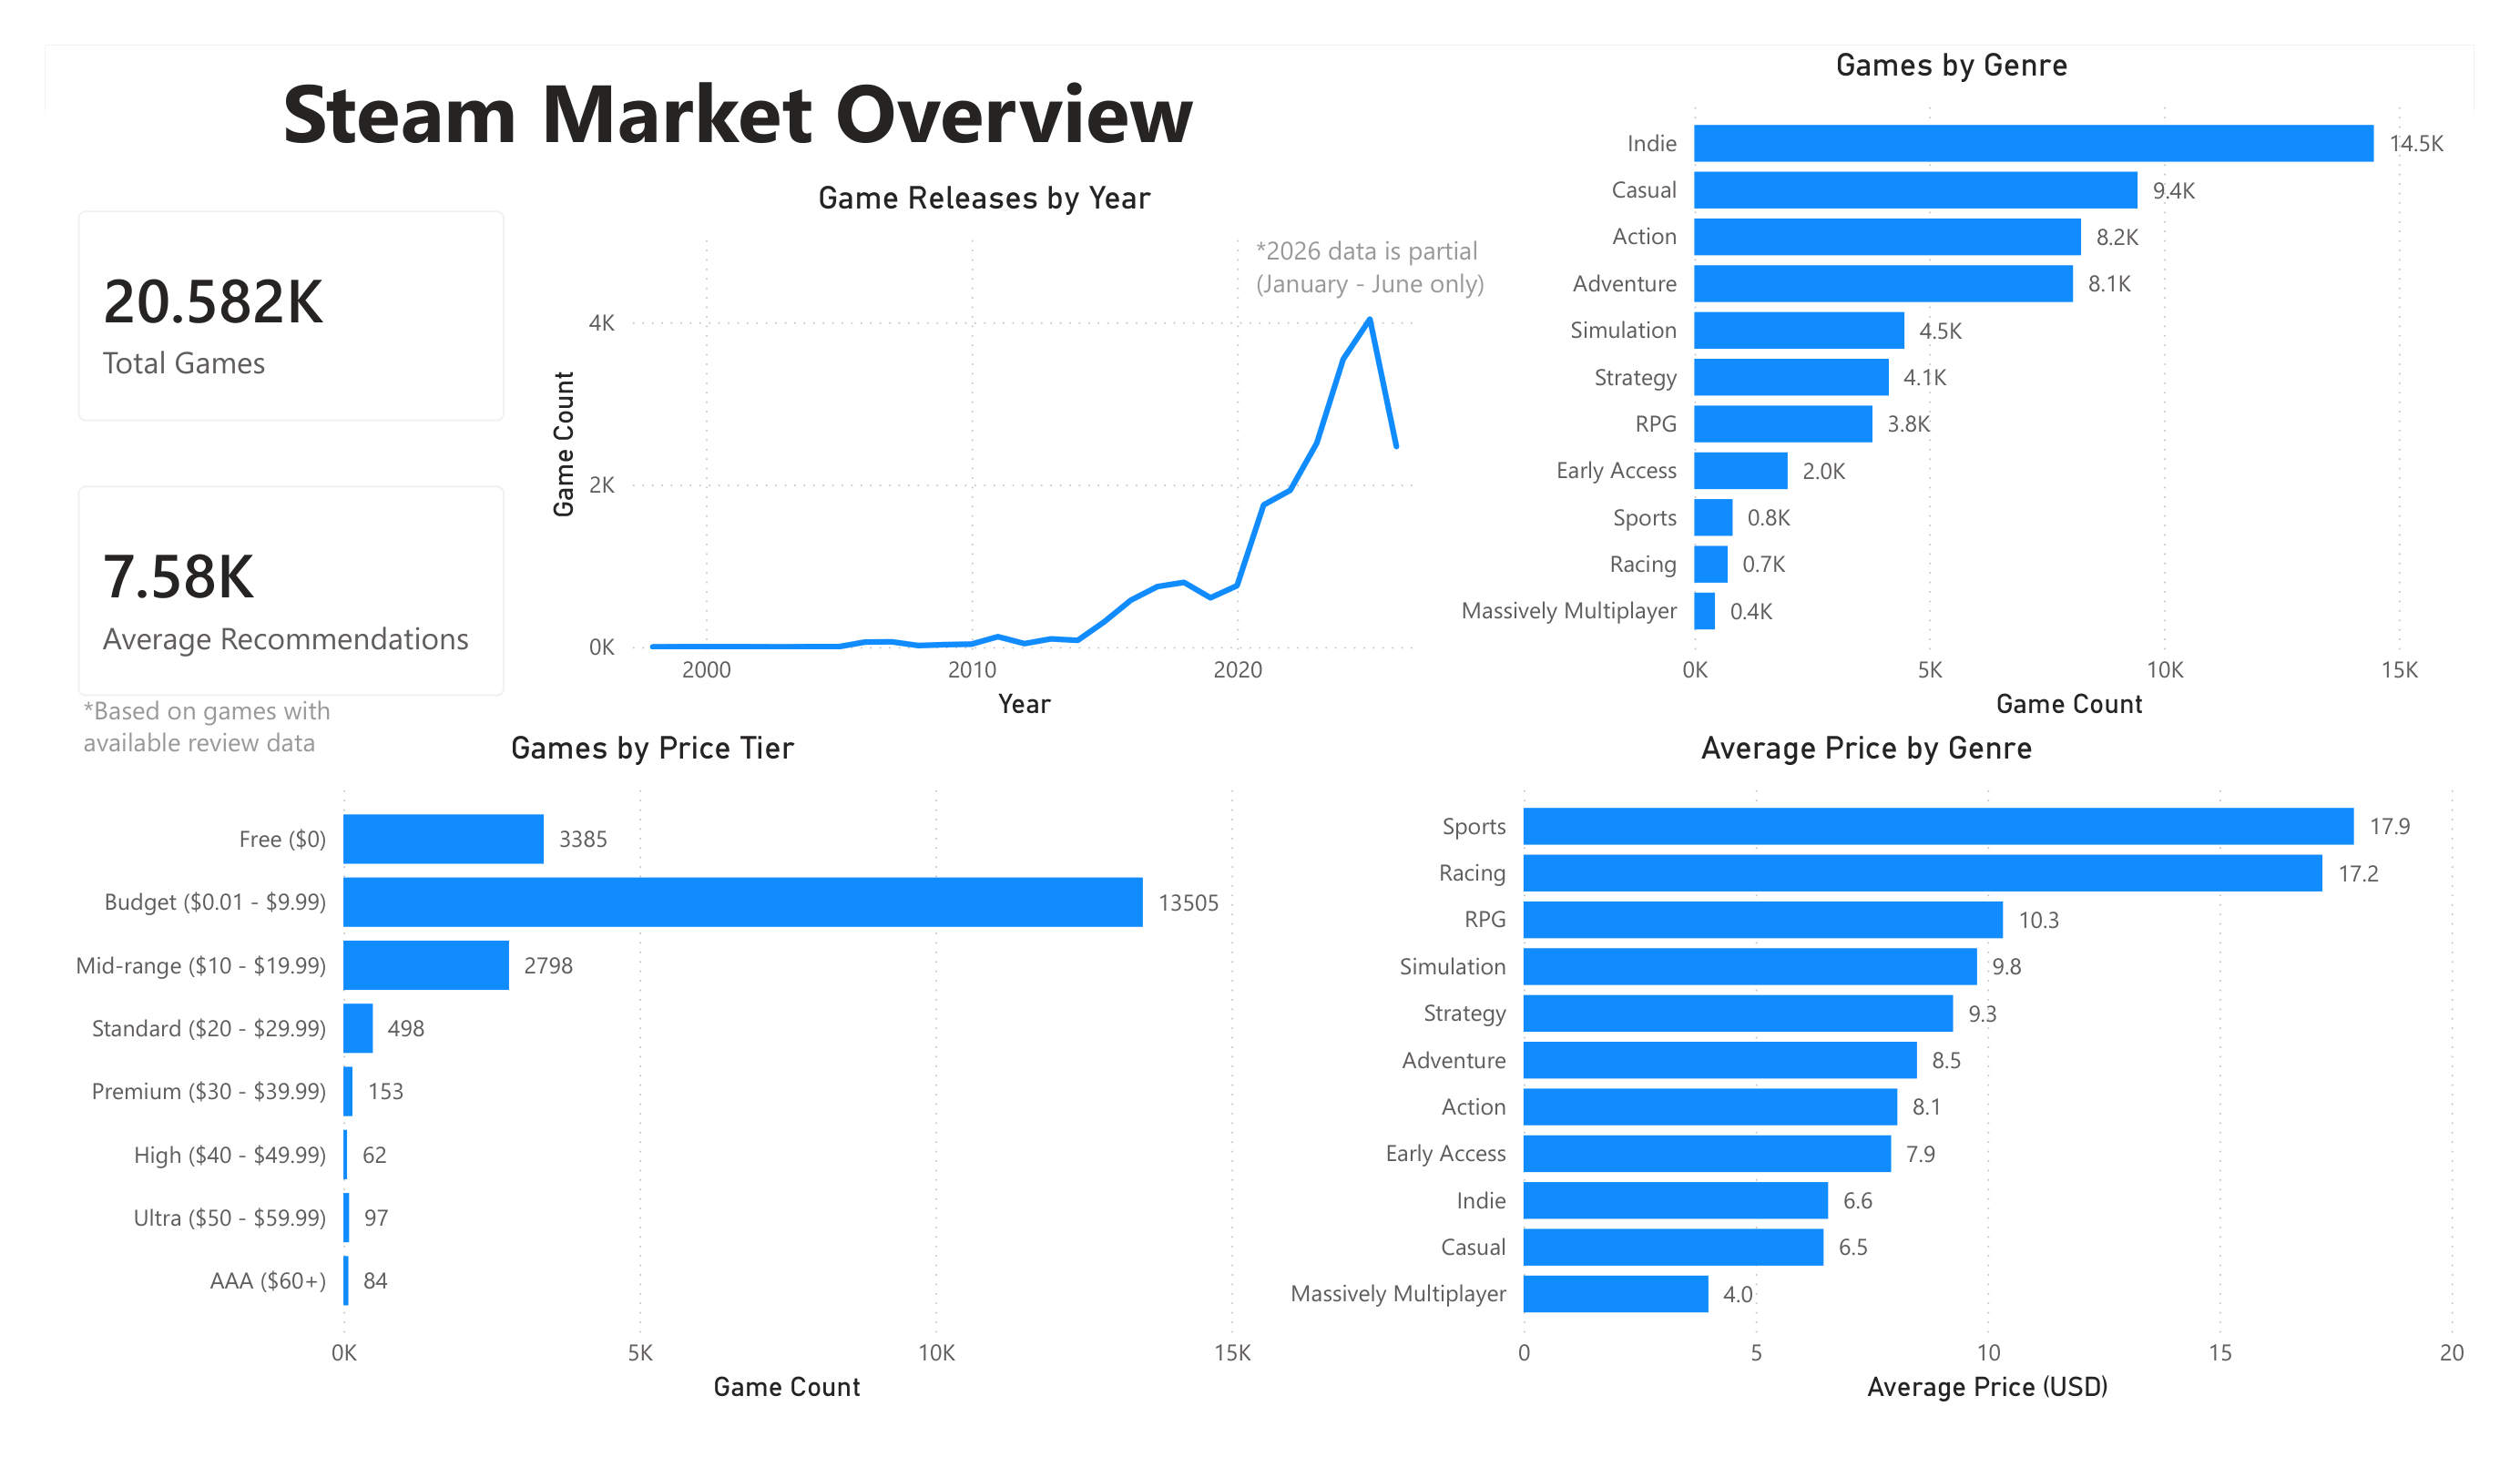

This screenshot's page, from the dashboard's own definition file:
{"tool":"powerbi","page":{"name":"Market Overview","canvas":[1280,720],"ordinal":0},"visuals":[{"type":"barChart","title":"Games by Genre","fields":{"Category":["public games_genre.genre"],"Y":["CountNonNull(public games_genre.genre)"]},"box":[729.9,0,550.1,360.5],"z":0},{"type":"lineChart","title":"Game Releases by Year","fields":{"Category":["public games.release_date.Variation.Date Hierarchy.Year","public games.release_date.Variation.Date Hierarchy.Quarter","public games.release_date.Variation.Date Hierarchy.Month","public games.release_date.Variation.Date Hierarchy.Day"],"Y":["CountNonNull(public games.steam_appid)"]},"box":[259.8,70.1,470.1,290.4],"z":1000},{"type":"cardVisual","title":"Total Games","fields":{"Data":["CountNonNull(public games.steam_appid)"]},"box":[0,70.1,259.8,145.2],"z":2000},{"type":"barChart","title":"Games by Price Tier","fields":{"Category":["public games.price_category"],"Y":["CountNonNull(public games.price_usd)"]},"box":[0,359.5,640,360.5],"z":3000},{"type":"barChart","title":"Average Price by Genre","fields":{"Category":["public games_genre.genre"],"Y":["Avg(public games.price_usd)"]},"box":[640,359.5,640,360.5],"z":4000},{"type":"cardVisual","fields":{"Data":["Avg(public games.recommendations)"]},"box":[0,215.3,259.8,145.2],"z":5000},{"type":"textbox","box":[0,0,729.9,70.1],"z":6000},{"type":"textbox","box":[633.1,93.8,142.2,49.4],"z":7000},{"type":"textbox","box":[14.8,335.8,142.2,49.4],"z":8000}]}

Visuals, with their boxes on the page's 1280x720 design canvas (x1, y1, x2, y2). These are canvas units, not pixel positions in the 2520x1457 screenshot, which may show the page scaled, cropped or inside an application window:
"Games by Genre" barChart: <bbox>730, 0, 1280, 360</bbox>
"Game Releases by Year" lineChart: <bbox>260, 70, 730, 360</bbox>
"Total Games" cardVisual: <bbox>0, 70, 260, 215</bbox>
"Games by Price Tier" barChart: <bbox>0, 360, 640, 720</bbox>
"Average Price by Genre" barChart: <bbox>640, 360, 1280, 720</bbox>
cardVisual - Avg(public games.recommendations): <bbox>0, 215, 260, 360</bbox>
textbox: <bbox>0, 0, 730, 70</bbox>
textbox: <bbox>633, 94, 775, 143</bbox>
textbox: <bbox>15, 336, 157, 385</bbox>
